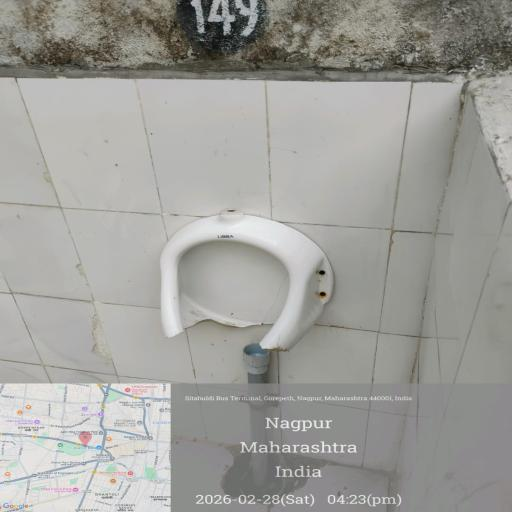clean_floor: (1, 83, 462, 221), (293, 225, 512, 380), (4, 226, 142, 382)
damage: (159, 220, 295, 356)
dirty_floor: (1, 0, 512, 83)
